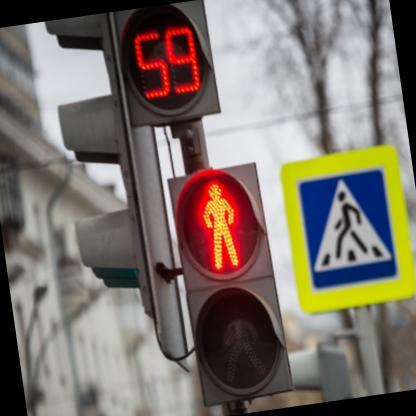off traffic light: (47, 11, 187, 359)
road_sign: (281, 146, 416, 313)
traffic light: (168, 163, 293, 406), (117, 1, 221, 126)
